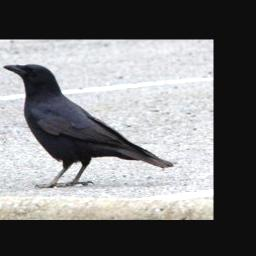Crow: (3, 63, 175, 188)
